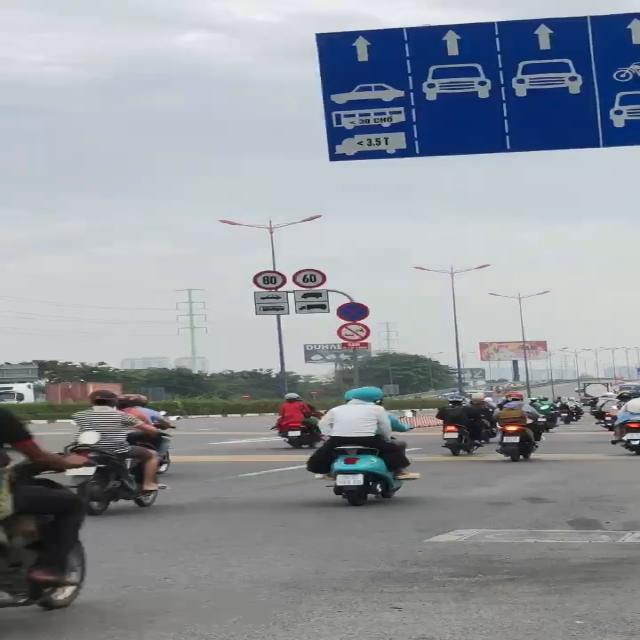Bien bao cam dung xe va do xe: (337, 302, 371, 322)
Bien bao toc do toi da cho phep: (290, 268, 326, 289), (252, 270, 287, 291)
